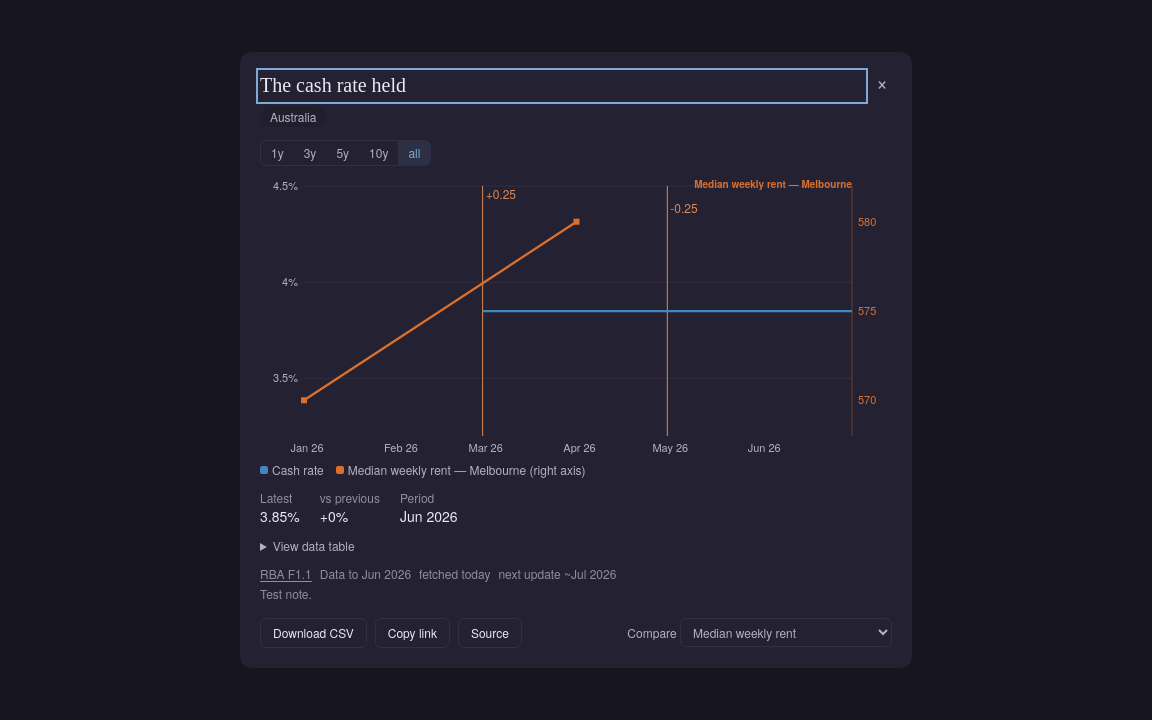
Scenario: compare series formats with its own unit, not the primary chart’s
The image size is (1152, 720).
Step 1. Click the heading "View data table" → (314, 545), box [273,537,355,554]
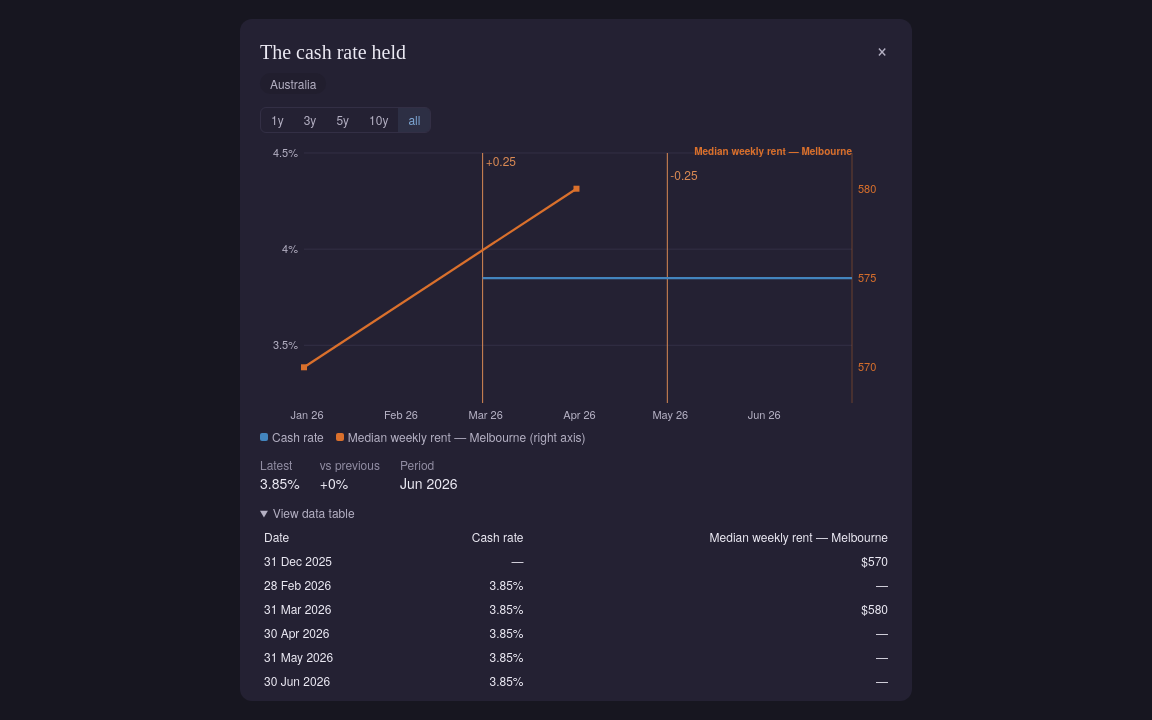
Expected: the text "$580" is shown, [528,596,892,620]
